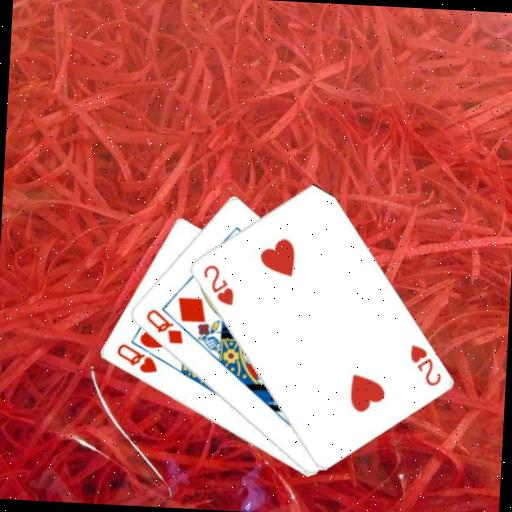2H: (405, 341, 445, 388), (198, 261, 237, 308)
QD: (141, 306, 186, 347)
QH: (112, 340, 160, 376)
